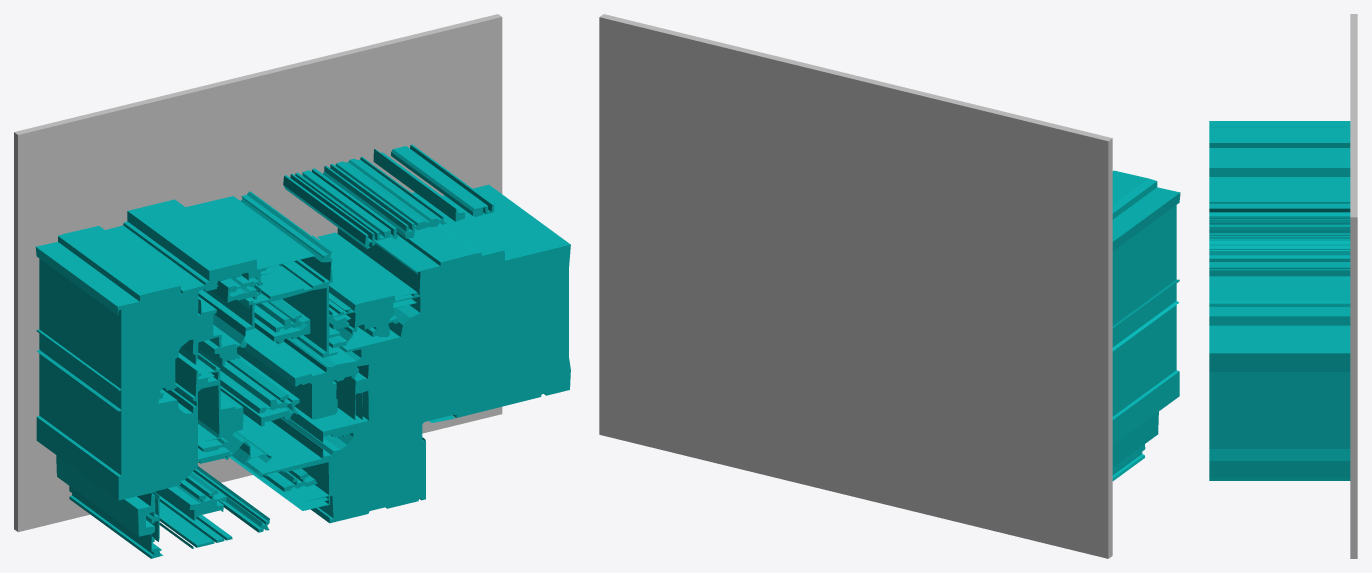
3 views of the same model, side by side, from view 1: azimuth 30°, elevation 25°; view 2: azimuth 150°, elevation 25°; view 3: azimuth 270°, elevation 25° (orthographic). The views are drawn at different scales.
Visible parts, largest first — view 1: world; view 2: world; view 3: world.
Part boxes in pixels (<box>): world: <box>14,14,570,558</box>; world: <box>599,14,1180,558</box>; world: <box>1209,14,1357,558</box>.
Size of the model in its own units: 10.23 by 8.02 by 3.15.
